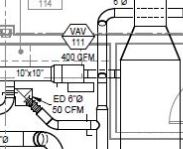VAV: (48, 55, 97, 97)
